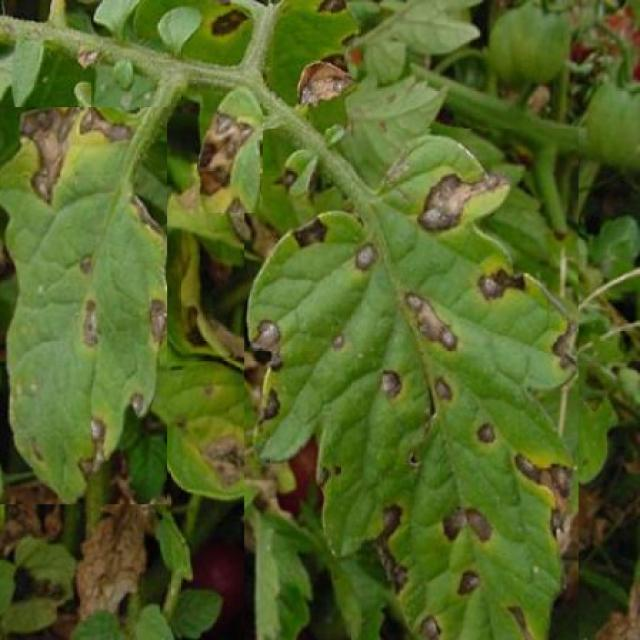Septoria: (244, 128, 578, 640), (0, 107, 167, 504), (197, 79, 263, 214)
